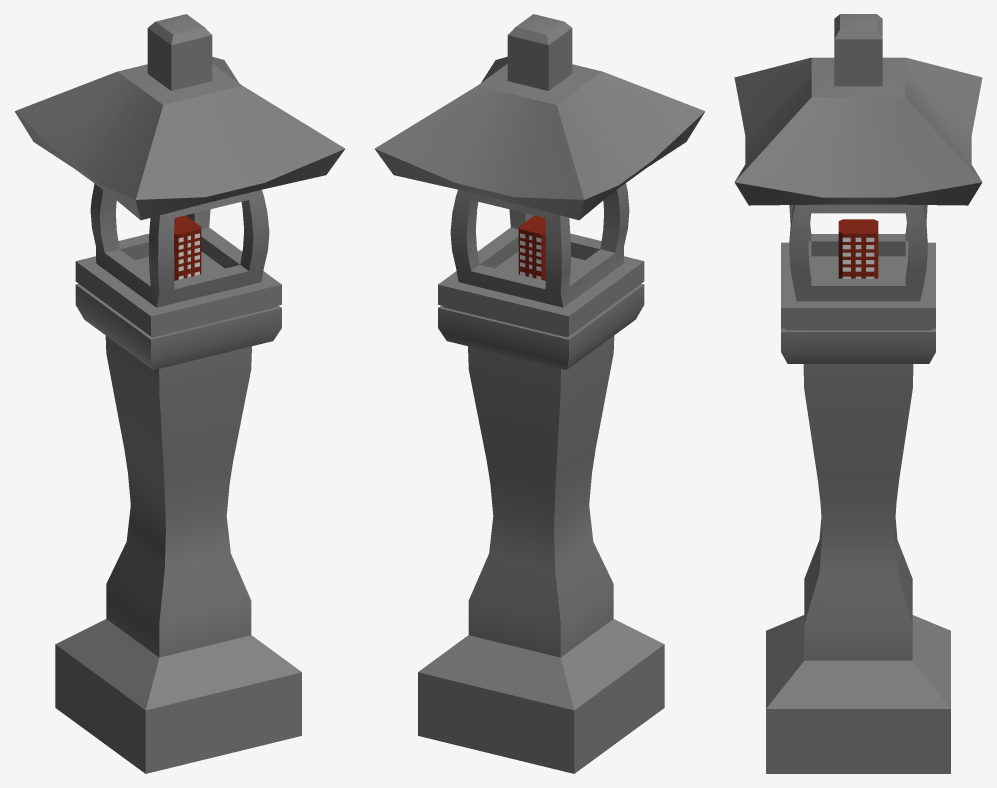
Rendered from Japanese Lantern.fbx.
3 renders of one model, left to right at view 1: azimuth 30°, elevation 25°; view 2: azimuth 150°, elevation 25°; view 3: azimuth 270°, elevation 25°, orthographic. The views are drawn at different scales.
Visible parts, largest first — view 1: Japanese Lantern, small_lantern001; view 2: Japanese Lantern, small_lantern001; view 3: Japanese Lantern, small_lantern001.
Part boxes in pixels (bbox=[...]): Japanese Lantern: bbox=[14, 14, 344, 773]; small_lantern001: bbox=[174, 215, 201, 280]; Japanese Lantern: bbox=[375, 14, 705, 773]; small_lantern001: bbox=[518, 215, 545, 280]; Japanese Lantern: bbox=[734, 14, 982, 773]; small_lantern001: bbox=[838, 219, 878, 278].
Size of what is drawn, in the model's own units: 25.62 by 81.63 by 25.62.
